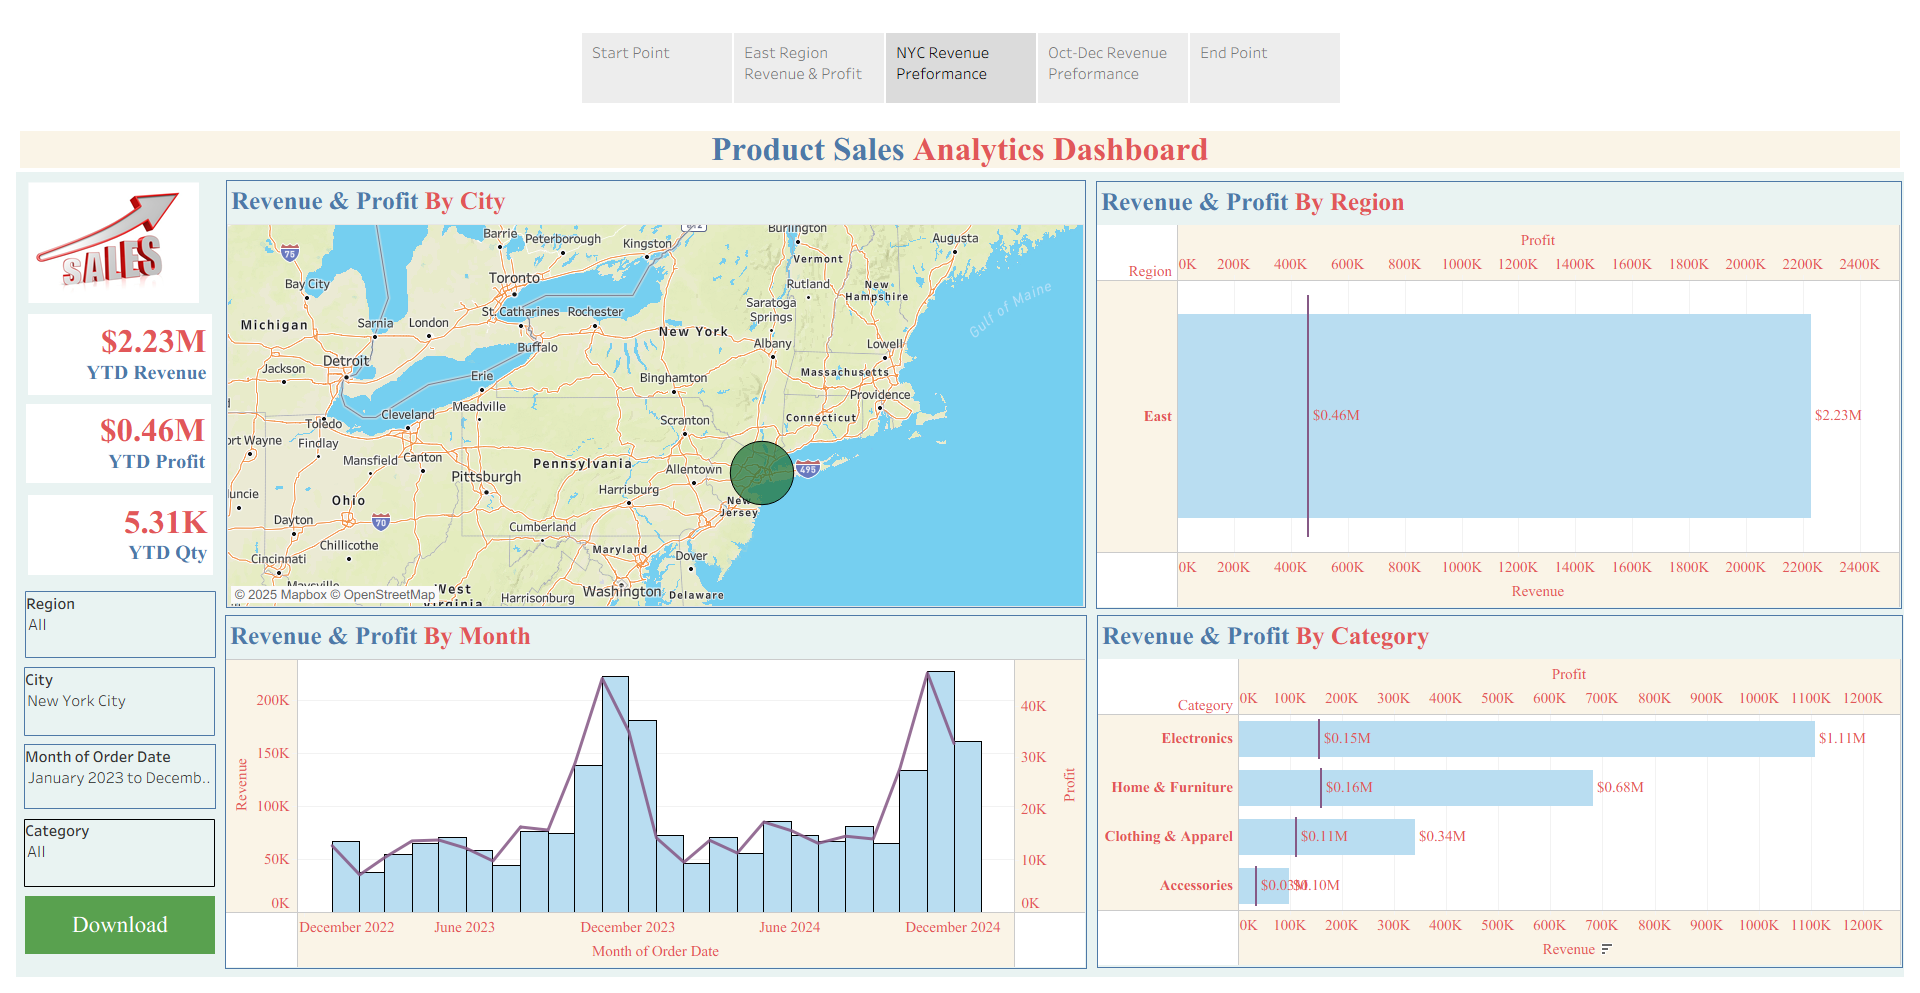

The dashboard page shown, as its layout file describes it:
{"tool":"tableau","page":{"name":"Dashboard","canvas":[1000,1000],"units":"permille","ordinal":0},"visuals":[{"type":"title","box":[4.8,10,990.3,56.2]},{"type":"worksheet","title":"City_Wise","mark":"Automatic","box":[114.7,69.9,451.4,494.4]},{"type":"worksheet","title":" Region_Wise","mark":"Automatic","rows":["Region"],"cols":["Revenue","Profit"],"box":[571.5,71.2,423.1,494.4]},{"type":"image","param":"Image/sales.jpg","box":[10.3,72.4,96.6,139.8]},{"type":"worksheet","title":"Revenue_Card","mark":"Automatic","box":[10.3,224.7,96,92.4]},{"type":"worksheet","title":"Profit_Card","mark":"Automatic","box":[9.7,329.6,96.6,89.9]},{"type":"worksheet","title":"Qty_Card","mark":"Automatic","box":[10.3,434.5,96.6,91.1]},{"type":"filter","title":" Region_Wise","param":"[federated.161l2w40rhty5k10ykqs002c49i8].[none:Region:nk]","box":[9.1,545.6,100.2,77.4]},{"type":"worksheet","title":"Month_Wise","mark":"Bar","rows":["Revenue","Profit"],"cols":["Order_Date"],"box":[114.1,573,452.6,408.2]},{"type":"worksheet","title":"Category_Wise","mark":"GanttBar","rows":["Category"],"cols":["Revenue","Profit"],"box":[572.1,573,423.1,407]},{"type":"filter","title":"City_Wise","param":"[federated.161l2w40rhty5k10ykqs002c49i8].[none:City:nk]","box":[8.4,633,100.2,79.9]},{"type":"filter","title":"Month_Wise","param":"[federated.161l2w40rhty5k10ykqs002c49i8].[tmn:Order_Date:qk]","box":[8.4,721.6,100.8,74.9]},{"type":"filter","title":"Category_Wise","param":"[federated.161l2w40rhty5k10ykqs002c49i8].[none:Category:nk]","box":[8.4,807.7,100.2,78.7]},{"type":"dashboard-object","box":[9.1,897.6,99.6,66.2]}]}

Visuals, with their boxes on the dashboard's canvas, which has no fixed pixel size, in thousandths of its width and height (x1, y1, x2, y2). These are canvas units, not pixel positions in the 1920x993 screenshot, which may show the page scaled, cropped or inside an application window:
title: region(5, 10, 995, 66)
"City_Wise" worksheet: region(115, 70, 566, 564)
" Region_Wise" worksheet: region(572, 71, 995, 566)
image: region(10, 72, 107, 212)
"Revenue_Card" worksheet: region(10, 225, 106, 317)
"Profit_Card" worksheet: region(10, 330, 106, 420)
"Qty_Card" worksheet: region(10, 434, 107, 526)
" Region_Wise" filter: region(9, 546, 109, 623)
"Month_Wise" worksheet (Bar marks): region(114, 573, 567, 981)
"Category_Wise" worksheet (GanttBar marks): region(572, 573, 995, 980)
"City_Wise" filter: region(8, 633, 109, 713)
"Month_Wise" filter: region(8, 722, 109, 796)
"Category_Wise" filter: region(8, 808, 109, 886)
dashboard-object: region(9, 898, 109, 964)
